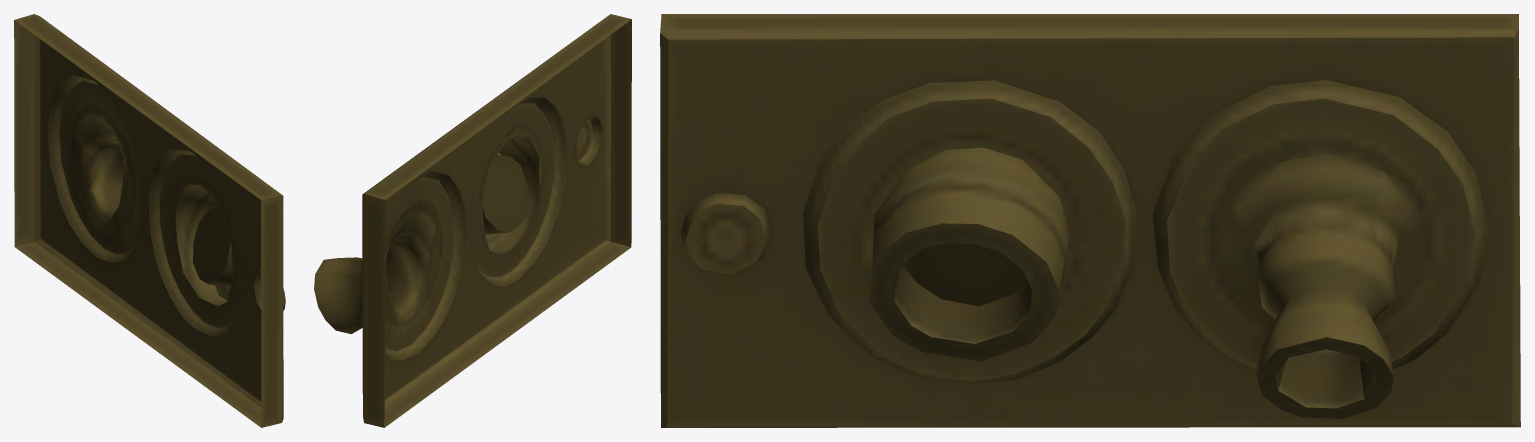
The model's file is plane_interior_lights_off.dae.
3 renders of one model, left to right at view 1: azimuth 30°, elevation 25°; view 2: azimuth 150°, elevation 25°; view 3: azimuth 270°, elevation 25°, orthographic. The views are drawn at different scales.
Visible parts, largest first — view 1: plane_interior_lights_off; view 2: plane_interior_lights_off; view 3: plane_interior_lights_off.
Boxes of the visible parts, bbox=[...] form: plane_interior_lights_off: bbox=[14, 14, 285, 427]; plane_interior_lights_off: bbox=[314, 14, 631, 427]; plane_interior_lights_off: bbox=[660, 14, 1520, 427].
Bounding box in the file's own units: 5.32 × 9.93 × 19.46.
